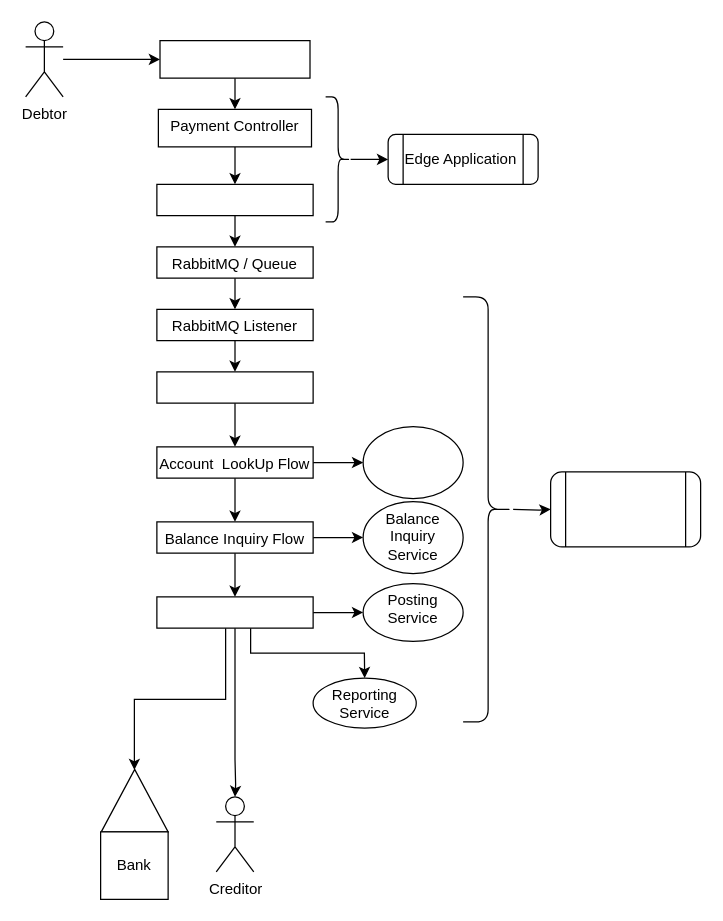
The diagram is 723 pixels wide and 921 high, and some of its shapes have lost their labels. Here are the shapes that lost their labels. From the top down, the box of each, then its label:
(159, 39, 310, 78): Postman
(156, 183, 313, 216): Feeder Service
(156, 371, 313, 403): Payments Gateway
(362, 425, 463, 498): Account LookUP Service
(549, 471, 701, 547): Intergration Application
(156, 596, 313, 628): Posting Flow
